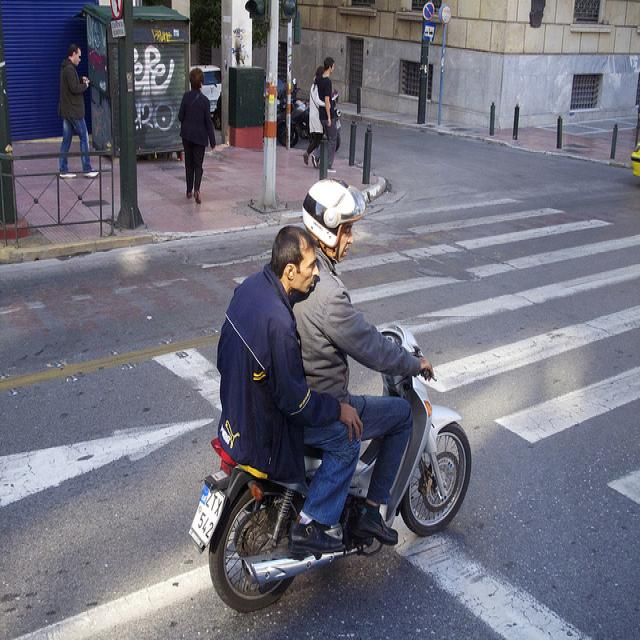motor: (193, 377, 471, 621), (306, 433, 410, 564), (276, 78, 311, 148)
